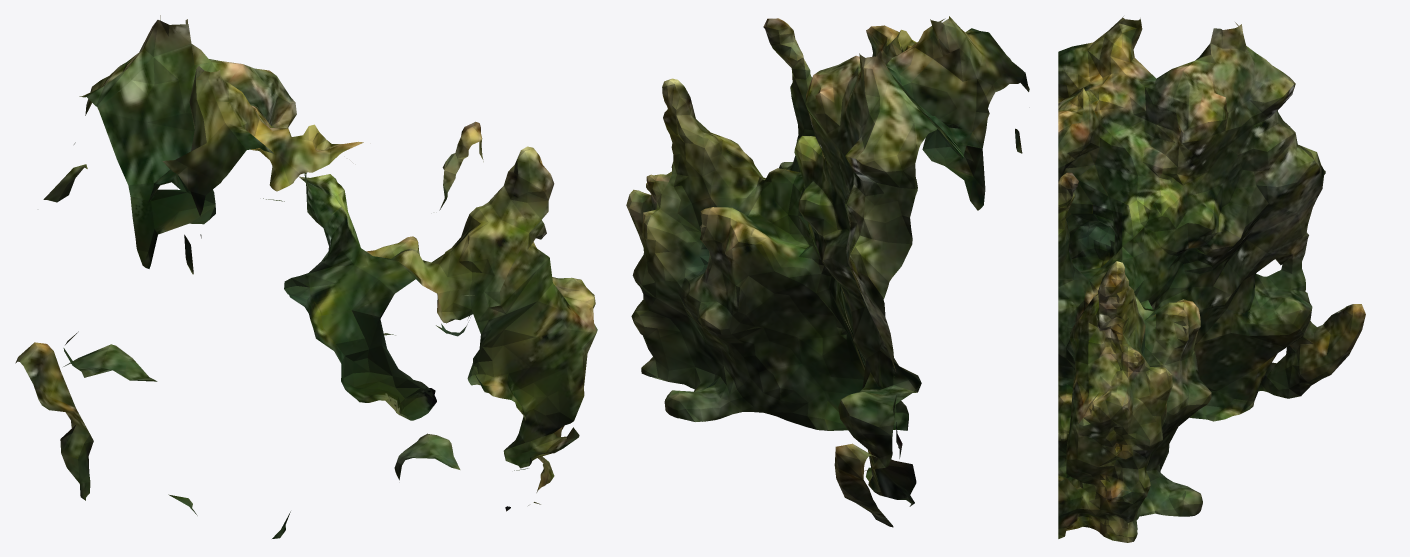
3 views of the same model, side by side, from view 1: azimuth 30°, elevation 25°; view 2: azimuth 150°, elevation 25°; view 3: azimuth 270°, elevation 25° (orthographic). The views are drawn at different scales.
Bounding box in the file's own units: 1.53 × 1.67 × 1.31.
4 materials, 4 textured.
